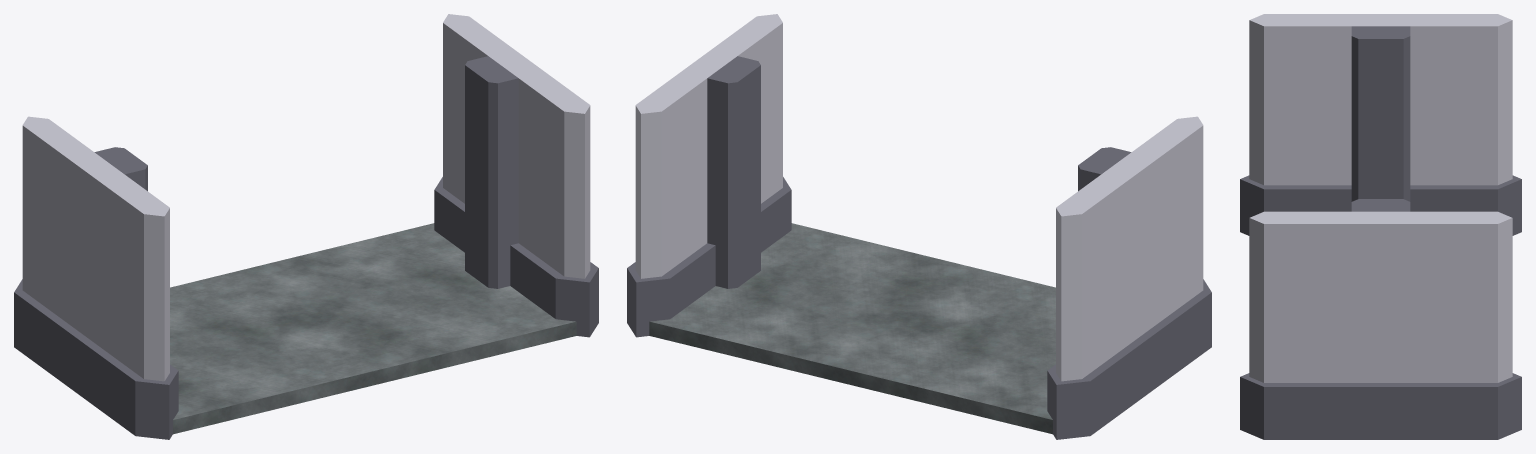
File: hallway_short_01.fbx
3 renders of one model, left to right at view 1: azimuth 30°, elevation 25°; view 2: azimuth 150°, elevation 25°; view 3: azimuth 270°, elevation 25°, orthographic. The views are drawn at different scales.
Parts seen in each view (by area): view 1: floor_04_90, wall_02_95, wall_02_96; view 2: floor_04_90, wall_02_95, wall_02_96; view 3: wall_02_96, wall_02_95.
Part boxes in pixels (x1,y1,x2,y2): floor_04_90: (170,223,576,434); wall_02_95: (14,116,178,439); wall_02_96: (434,14,598,337); floor_04_90: (649,223,1055,434); wall_02_95: (1047,116,1211,439); wall_02_96: (627,14,791,337); wall_02_96: (1240,199,1521,439); wall_02_95: (1240,14,1521,235).
Size of the model in its own units: 22.05 by 10 by 12.05.
